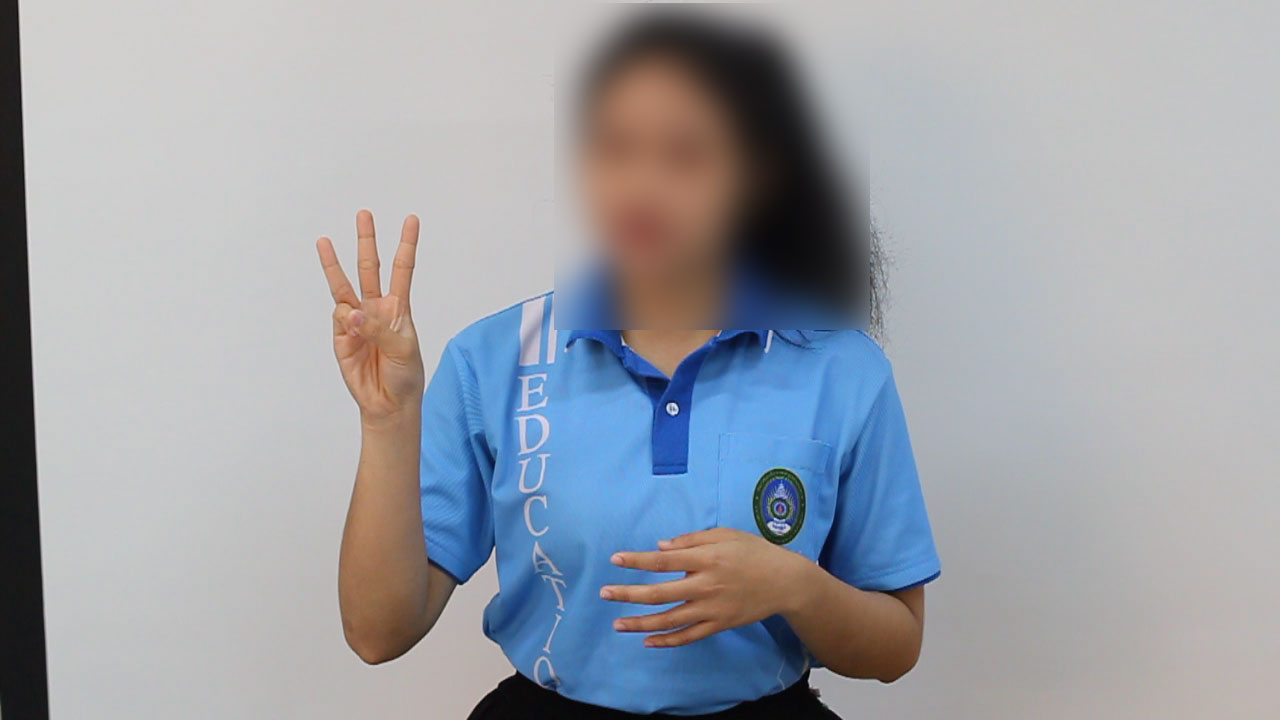wor: (306, 202, 432, 429)
